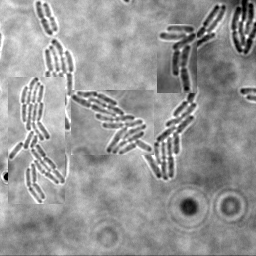Dividing: (34, 1, 52, 37), (41, 3, 57, 33)
Microcolony: (8, 77, 65, 204), (120, 87, 197, 181), (71, 90, 154, 155), (157, 24, 197, 93), (184, 5, 226, 52), (230, 1, 255, 56)
